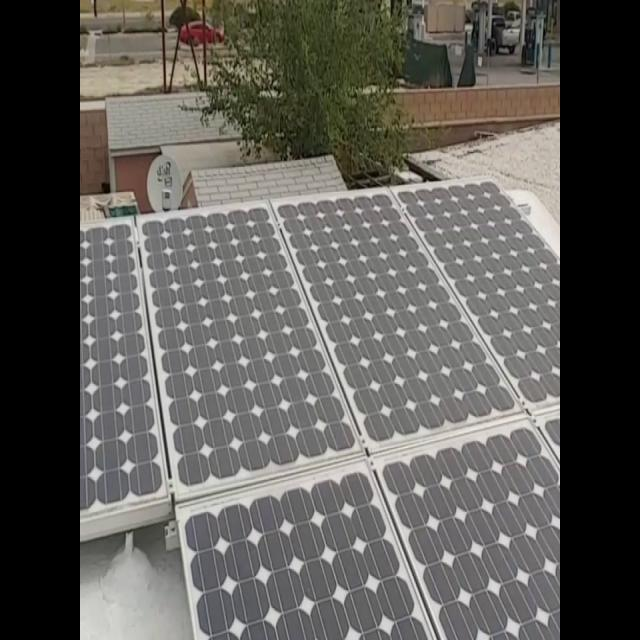dust-solar-panel: (78, 180, 562, 640)
